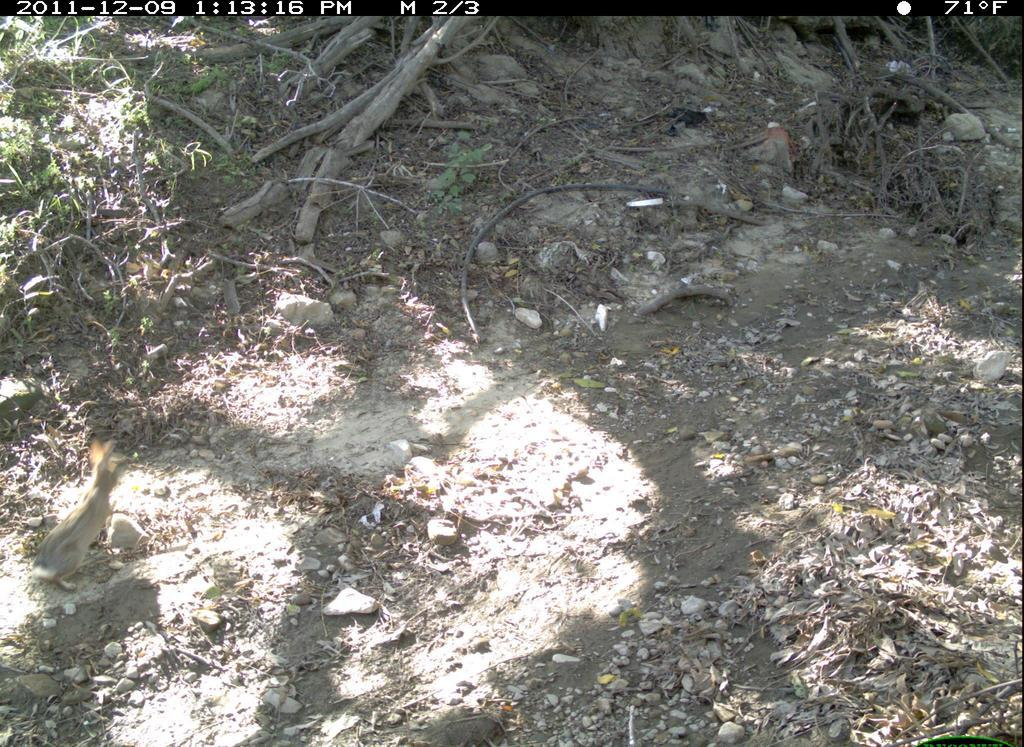rabbit: (27, 413, 134, 616)
